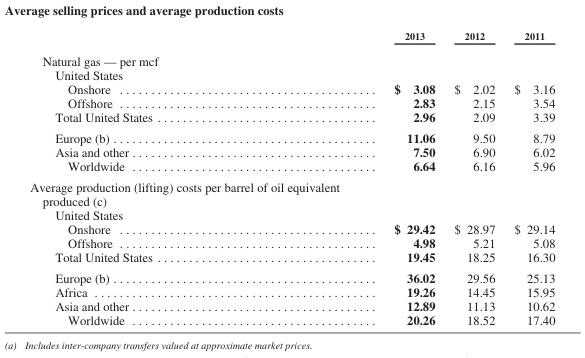table: (29, 29, 554, 326)
table column: (29, 29, 272, 326), (272, 29, 443, 326), (443, 29, 503, 326), (503, 29, 554, 326)
table column header: (29, 29, 554, 47)
table projected row header: (29, 176, 554, 207), (29, 47, 554, 67), (29, 67, 554, 81), (29, 207, 554, 221)
table row: (29, 176, 554, 207), (29, 47, 554, 67), (29, 29, 554, 47), (29, 126, 554, 144), (29, 158, 554, 176), (29, 249, 554, 267), (29, 109, 554, 126), (29, 267, 554, 284), (29, 67, 554, 81), (29, 81, 554, 95), (29, 95, 554, 109), (29, 144, 554, 158), (29, 207, 554, 221), (29, 221, 554, 235), (29, 235, 554, 249), (29, 284, 554, 298), (29, 298, 554, 312), (29, 312, 554, 326)
